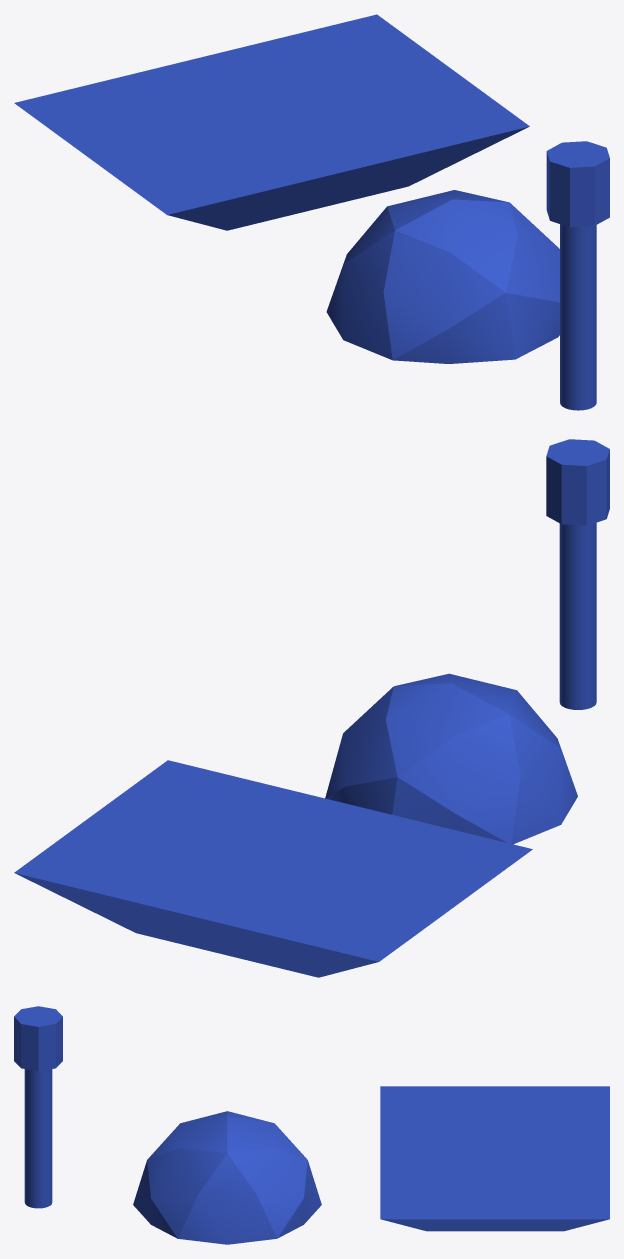
The picture shows the model from 3 angles, top to bottom: view 1: azimuth 30°, elevation 25°; view 2: azimuth 150°, elevation 25°; view 3: azimuth 270°, elevation 25°; orthographic projection. The views are drawn at different scales.
Parts seen in each view (by area): view 1: wedge (×4), icosphere_half, block, wedge_cornerOuter (×4), cylinder, cylinderVertex; view 2: wedge (×4), icosphere_half, block, wedge_cornerOuter (×4), cylinder, cylinderVertex; view 3: icosphere_half, wedge (×4), block, wedge_cornerOuter (×4), cylinder, cylinderVertex.
Boxes of the visible parts, x1,y1,x2,y2 form: wedge (×4): (45, 36, 498, 230); icosphere_half: (326, 190, 559, 363); block: (136, 59, 408, 170); wedge_cornerOuter (×4): (14, 14, 529, 230); cylinder: (560, 224, 596, 410); cylinderVertex: (546, 141, 609, 227); wedge (×4): (45, 782, 501, 977); icosphere_half: (325, 673, 577, 844); block: (136, 805, 410, 916); wedge_cornerOuter (×4): (14, 760, 532, 977); cylinder: (559, 522, 596, 709); cylinderVertex: (546, 439, 609, 525); icosphere_half: (133, 1111, 321, 1244); wedge (×4): (380, 1086, 609, 1231); block: (426, 1119, 563, 1185); wedge_cornerOuter (×4): (380, 1086, 609, 1231); cylinder: (24, 1069, 52, 1208); cylinderVertex: (14, 1006, 62, 1071).
Size of the model in its own units: 1.66 by 1.1 by 3.16.
